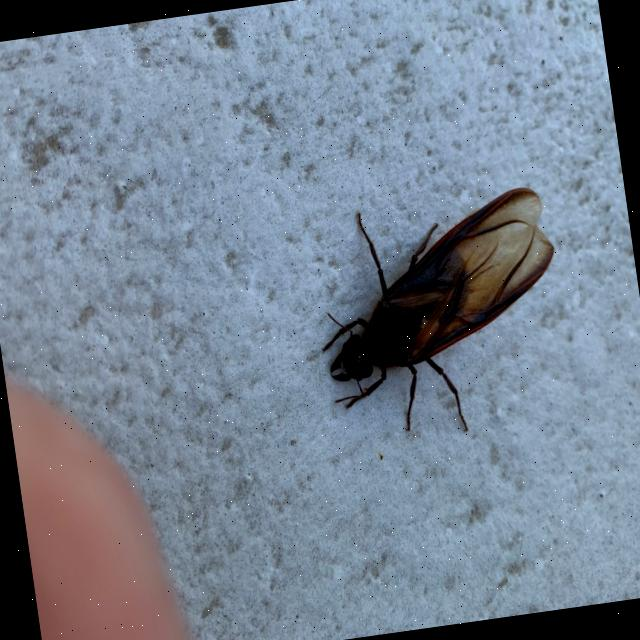Alive-Female-Alate: (303, 183, 577, 450)
